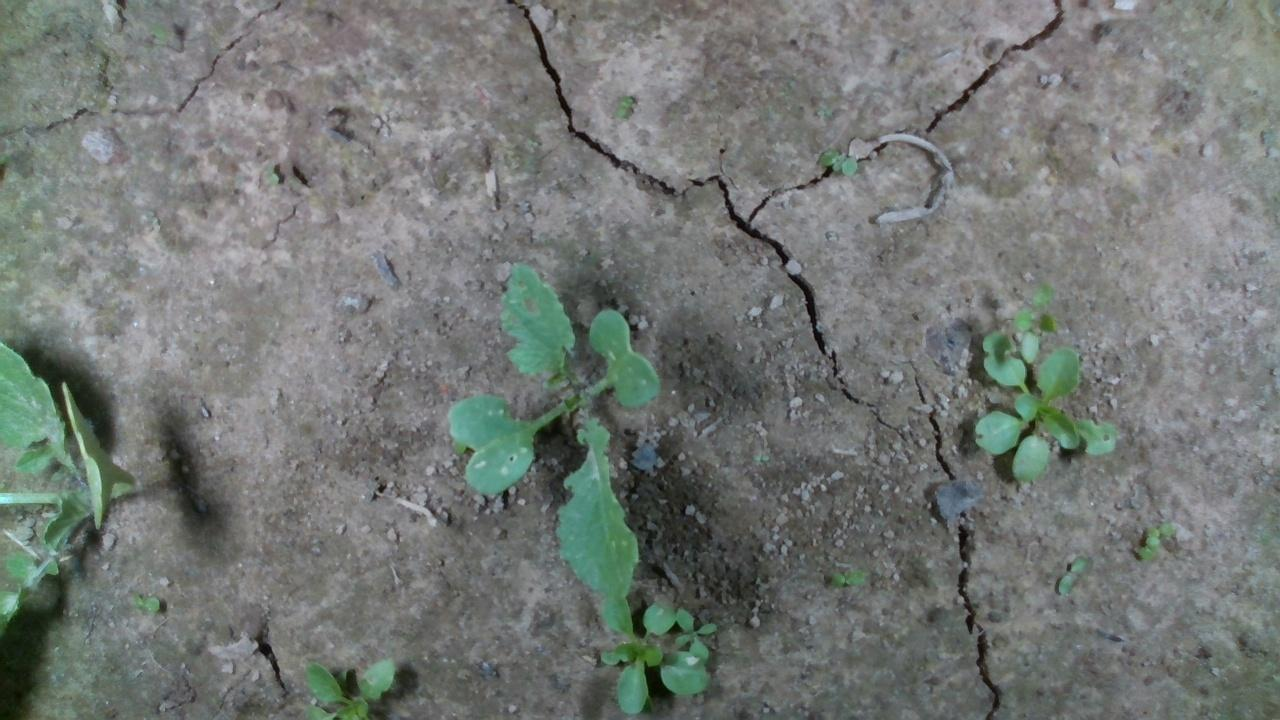weed: (1056, 552, 1087, 597), (817, 145, 858, 179), (828, 565, 868, 589), (127, 592, 161, 616)
